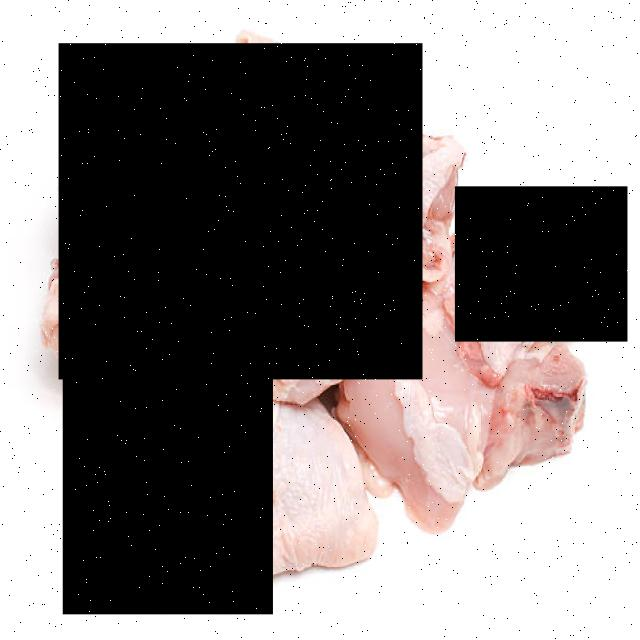Chicken: (59, 43, 423, 380), (283, 380, 562, 604), (63, 375, 273, 615), (456, 187, 628, 342)
